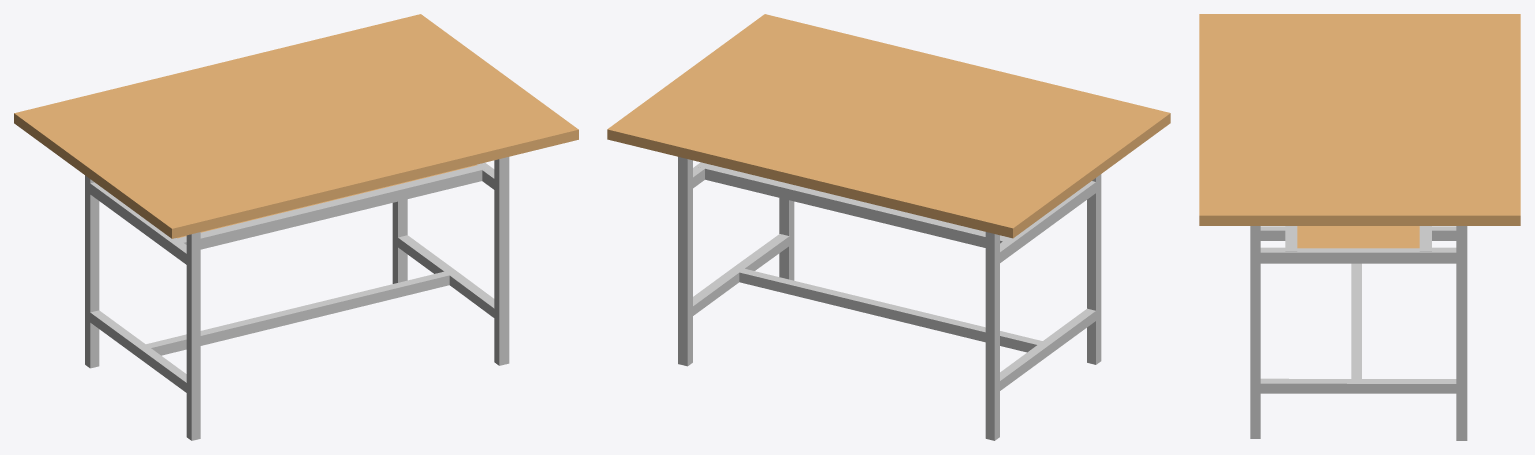
Rendered from table4.fbx.
3 views of the same model, side by side, from view 1: azimuth 30°, elevation 25°; view 2: azimuth 150°, elevation 25°; view 3: azimuth 270°, elevation 25° (orthographic).
Visible parts, largest first — view 1: Cube.004; view 2: Cube.004; view 3: Cube.004.
Boxes of the visible parts, bbox=[...] form: Cube.004: bbox=[14, 14, 578, 440]; Cube.004: bbox=[607, 14, 1170, 440]; Cube.004: bbox=[1199, 14, 1520, 440].
Bounding box in the file's own units: 9057 × 5179 × 6092.
